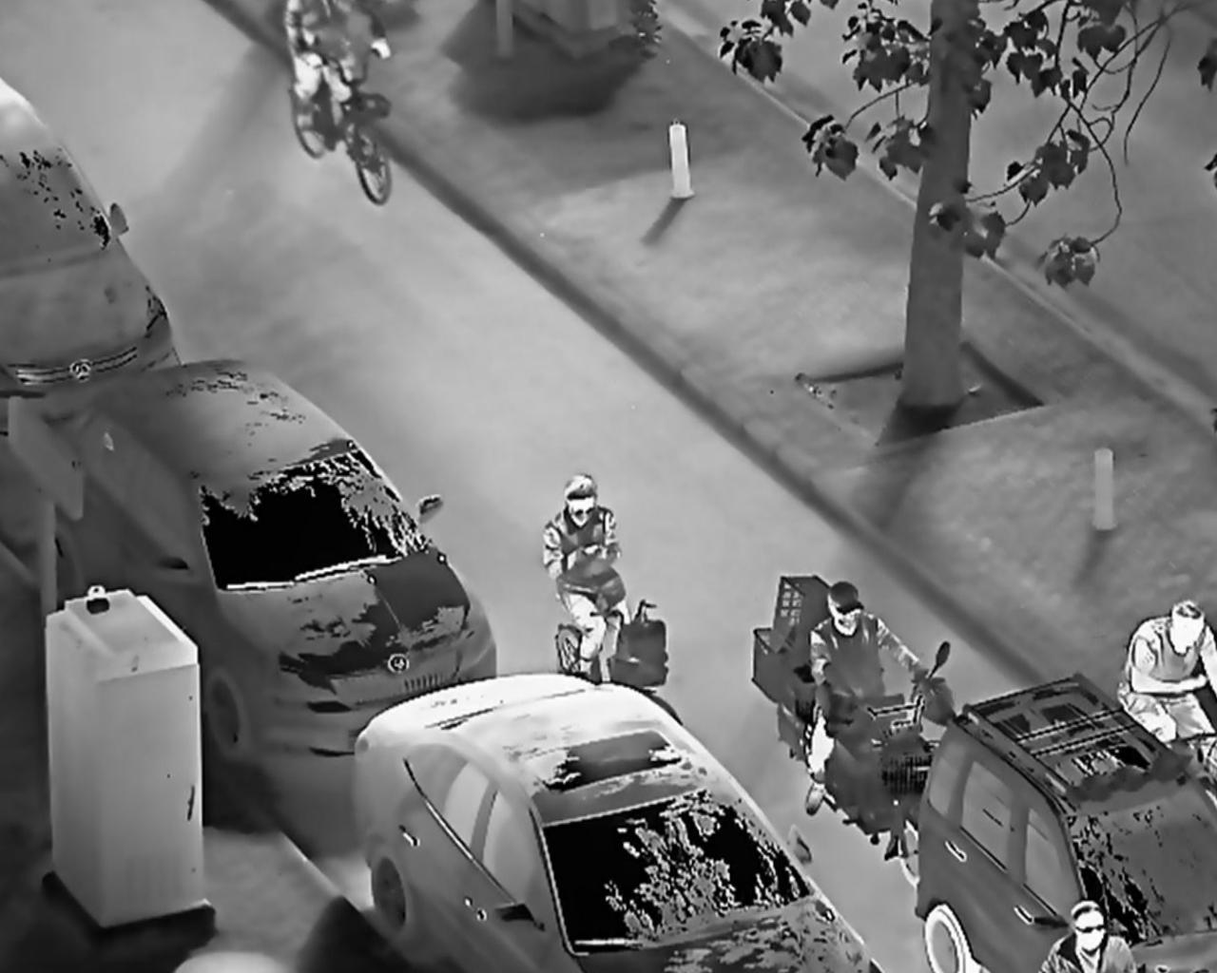person: (799, 580, 926, 817), (542, 472, 641, 683), (1113, 597, 1217, 767)
